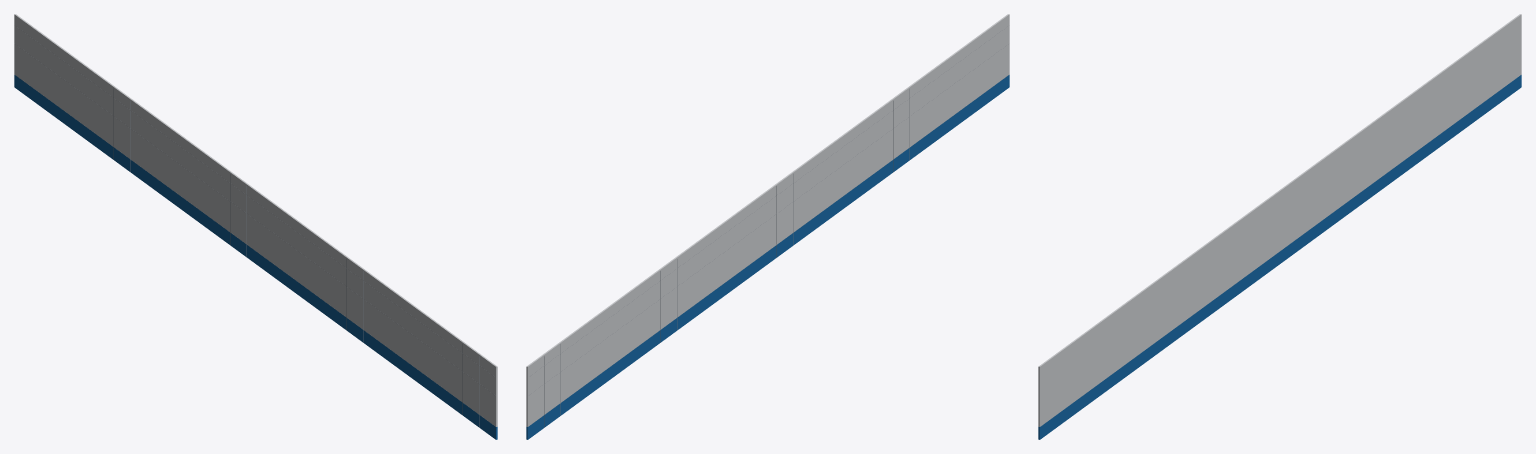
Rendered from SM_MPR4_Facade_15.fbx.
3 renders of one model, left to right at view 1: azimuth 30°, elevation 25°; view 2: azimuth 150°, elevation 25°; view 3: azimuth 330°, elevation 25°, orthographic.
Parts seen in each view (by area): view 1: SM_MPR4_Facade_15; view 2: SM_MPR4_Facade_15; view 3: SM_MPR4_Facade_15.
Boxes of the visible parts, bbox=[...] form: SM_MPR4_Facade_15: bbox=[14, 14, 497, 439]; SM_MPR4_Facade_15: bbox=[526, 14, 1009, 439]; SM_MPR4_Facade_15: bbox=[1038, 14, 1521, 439].
Bounding box in the file's own units: 31.44 × 17678 × 1480.
